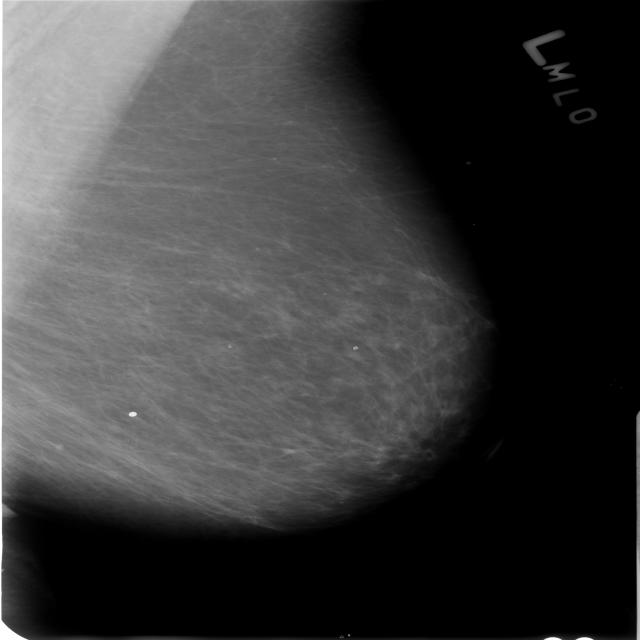normal: (0, 0, 485, 534)
